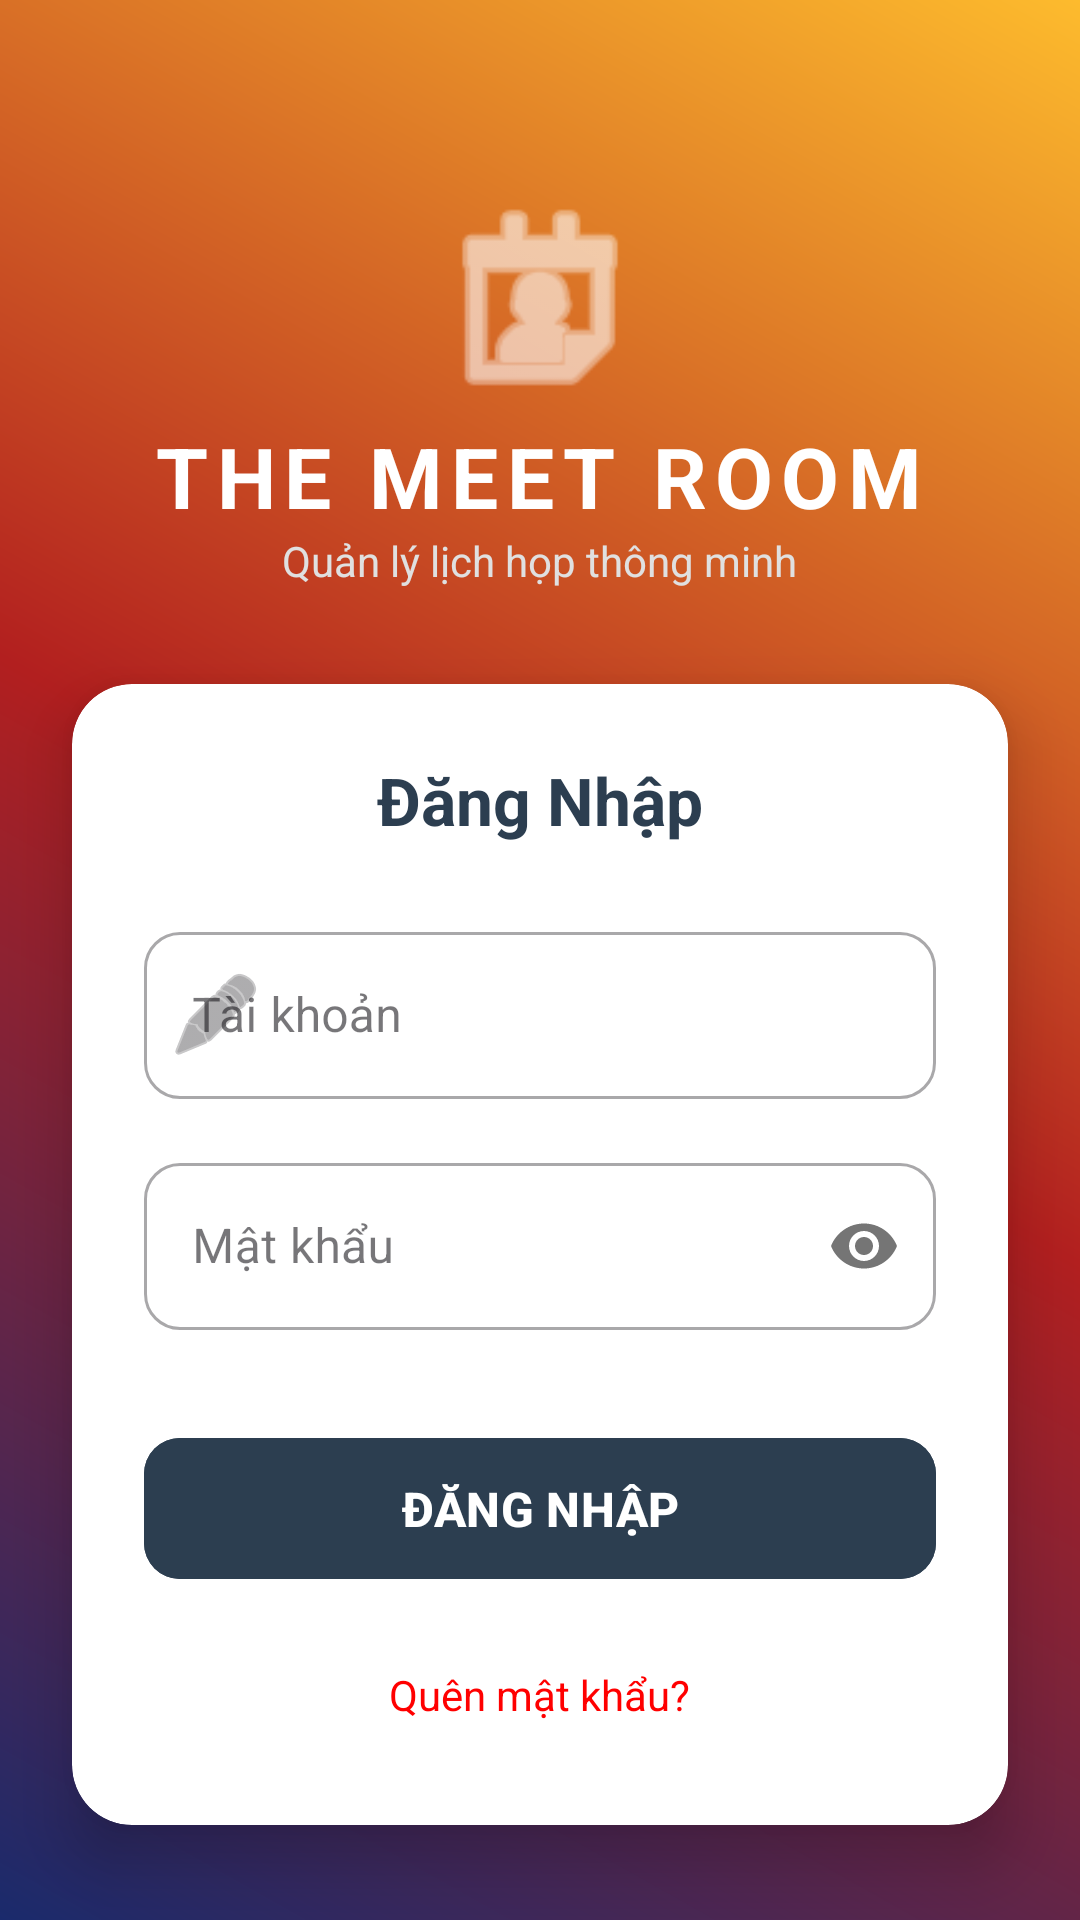

Named icons in this screenshot (1080x1920) and their centers, [x,y]:
calendar: [540,300]
